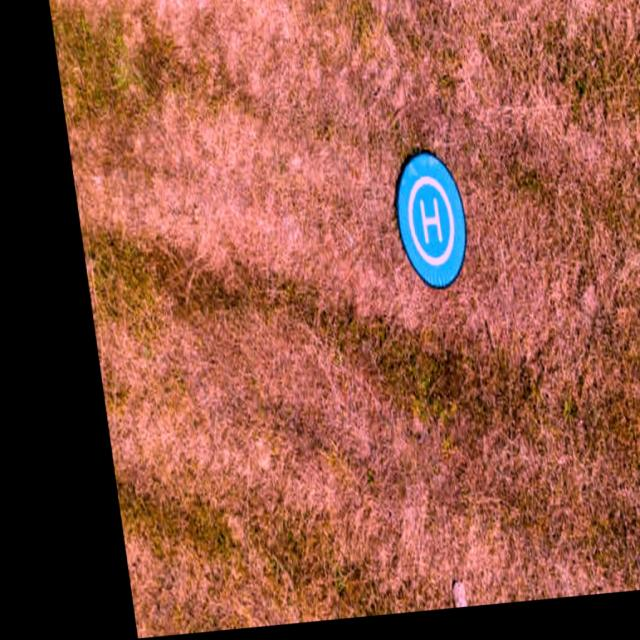helipad: (405, 173, 457, 267)
